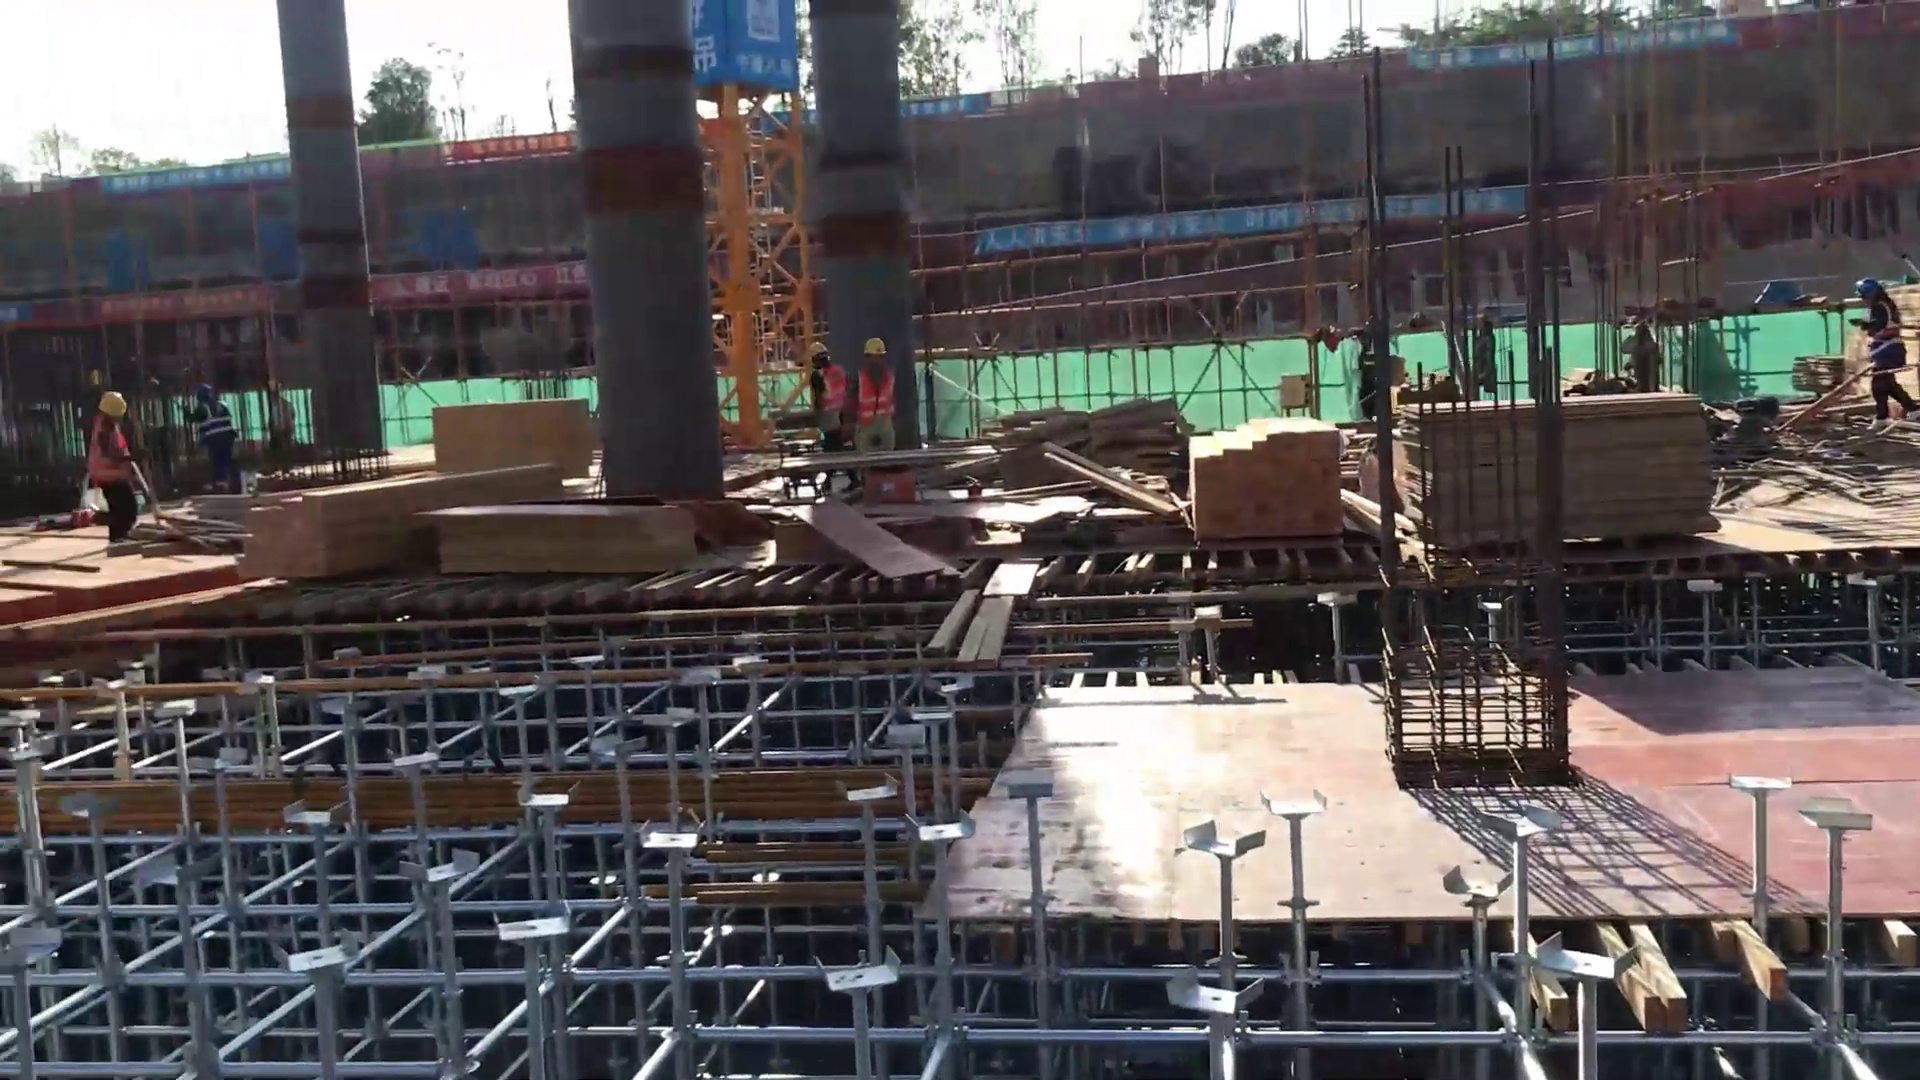helmet: (85, 387, 135, 419), (1850, 272, 1894, 307), (856, 326, 881, 370)
person: (81, 388, 165, 538), (1856, 272, 1915, 429), (844, 333, 904, 453), (796, 339, 854, 454)
vest: (81, 423, 135, 483), (868, 364, 903, 422), (1858, 299, 1898, 346), (815, 360, 846, 415)
